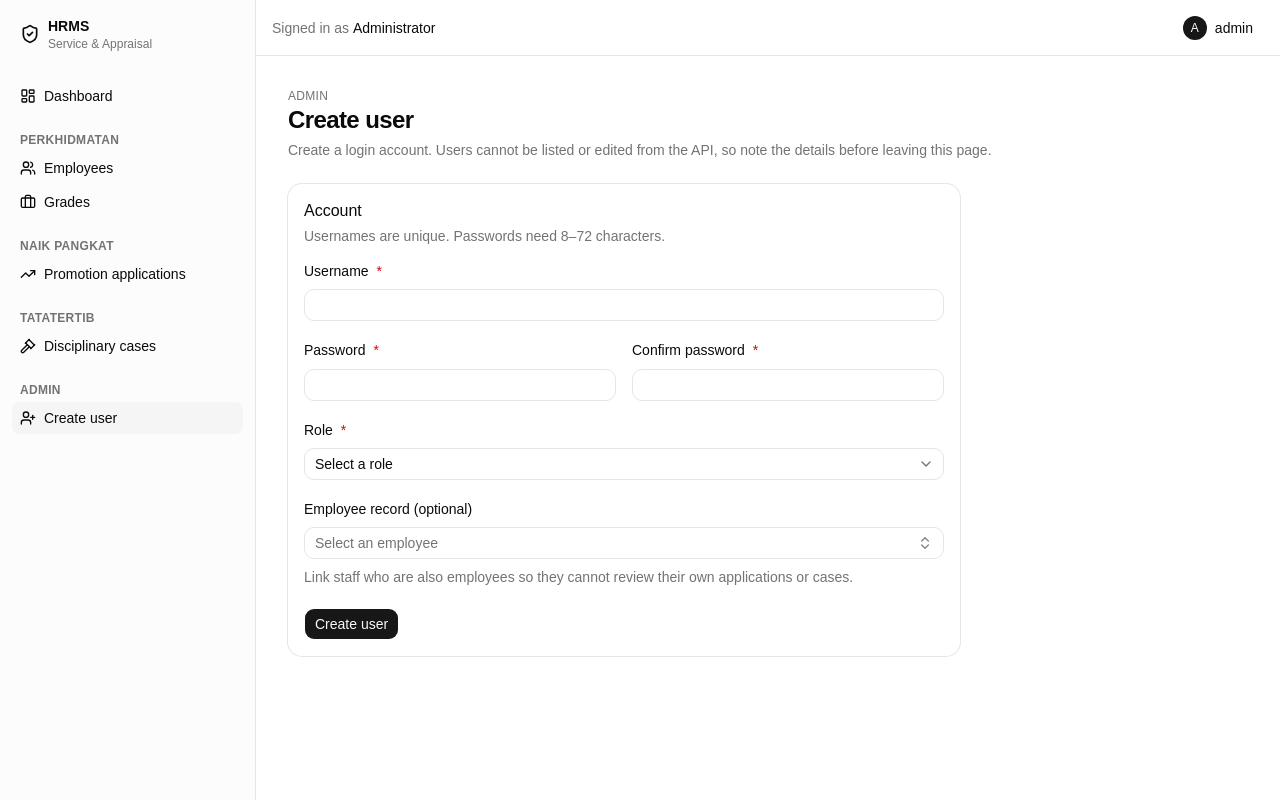
create user › creates a user without client-only fields and shows the result
Type "new.approver" into the field labelled "Username *". click: (624, 305)
box: [304, 289, 944, 321]
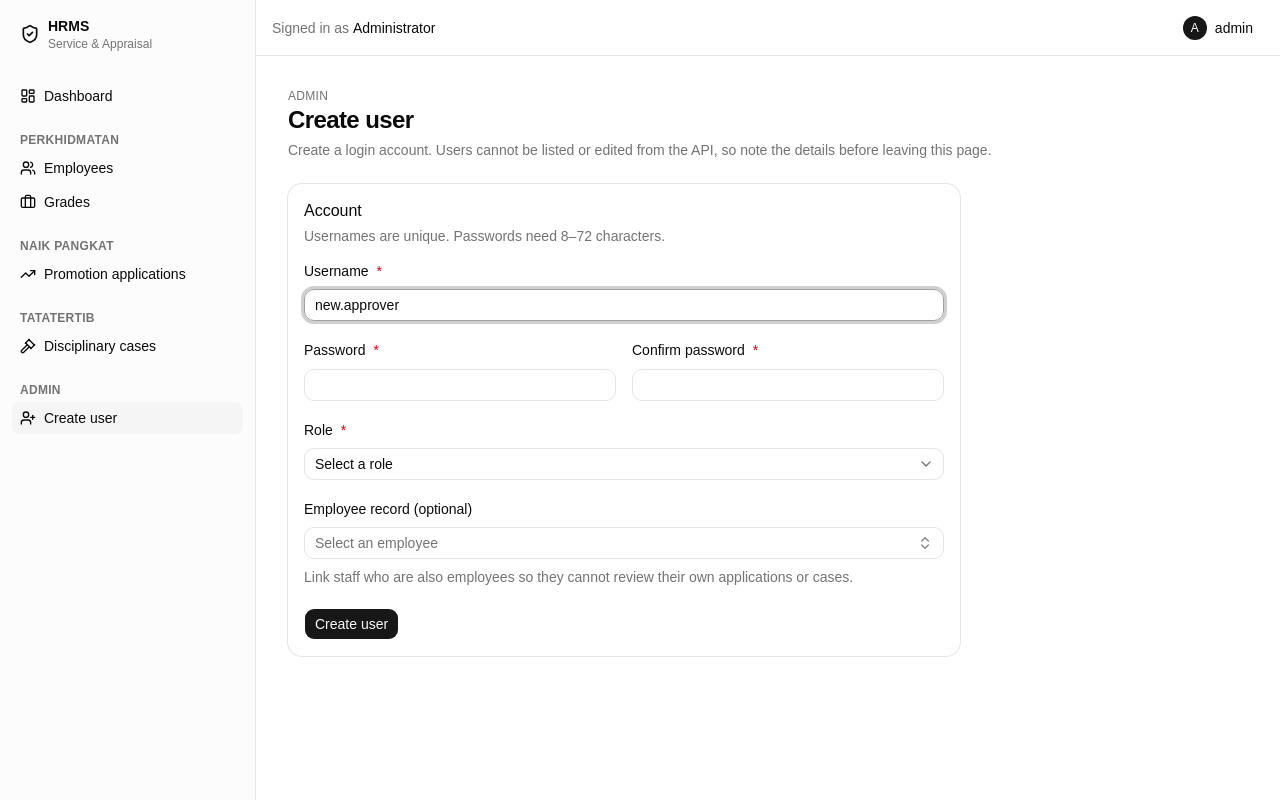
Type "Sup3r-secret" into the password field labelled "Password *". click: (460, 384)
box: [304, 368, 616, 400]
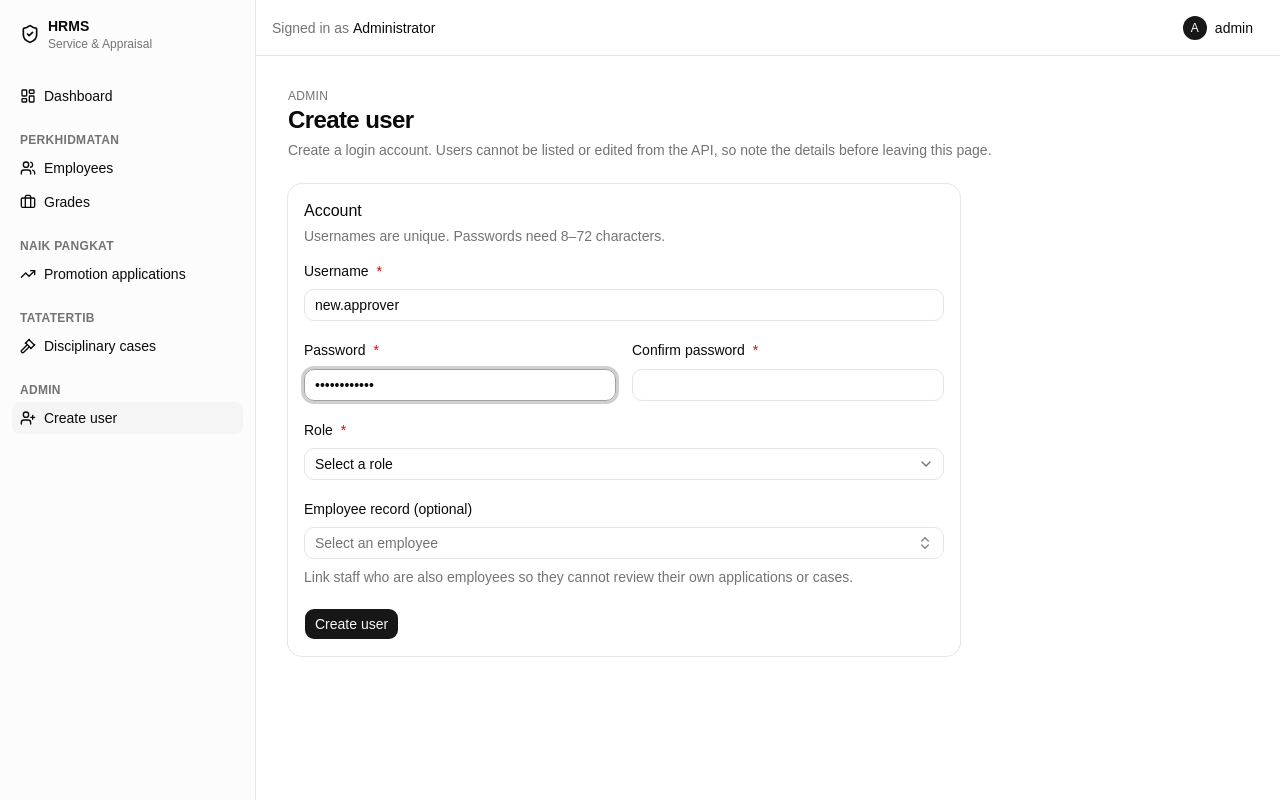
Type "Sup3r-secret" into the password field labelled "Confirm password *". click: (788, 384)
box: [632, 368, 944, 400]
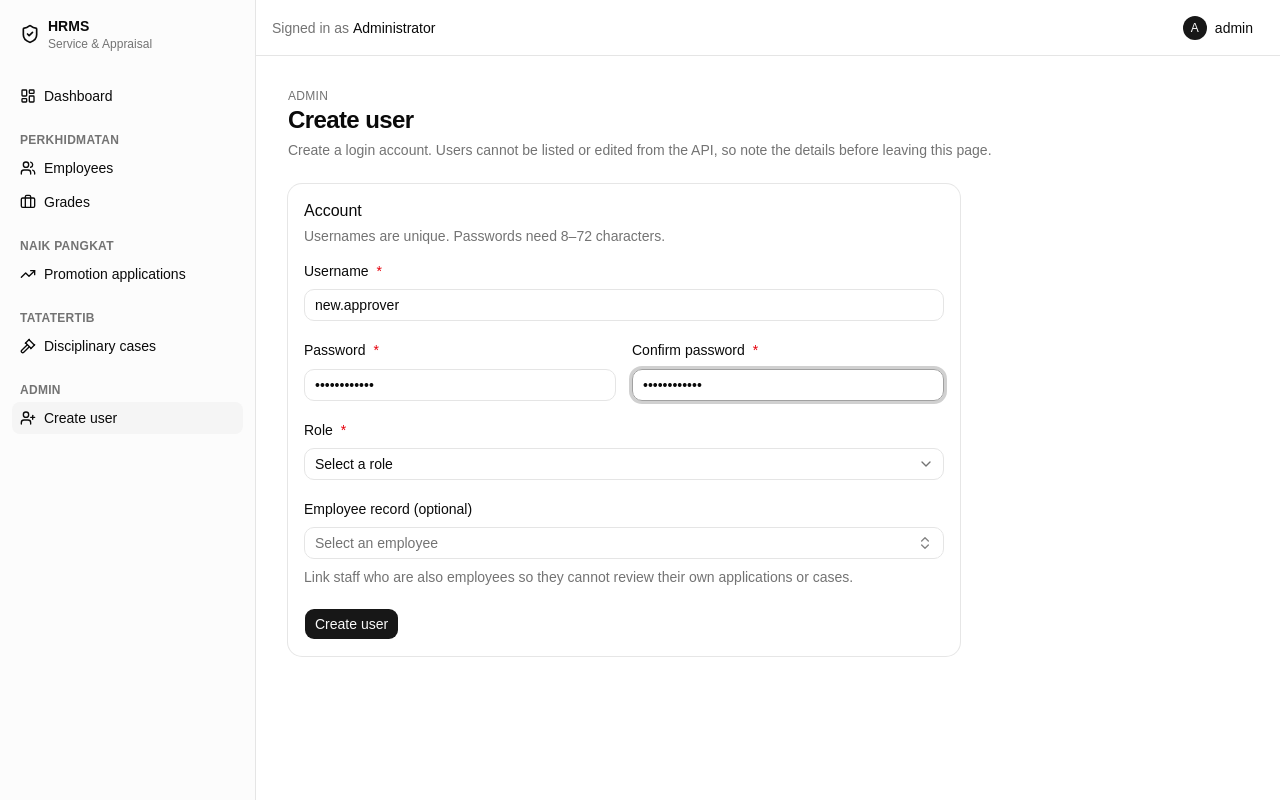
Select "Approver" in the dropdown labelled "Role *". click: (624, 464)
box: [304, 448, 944, 480]
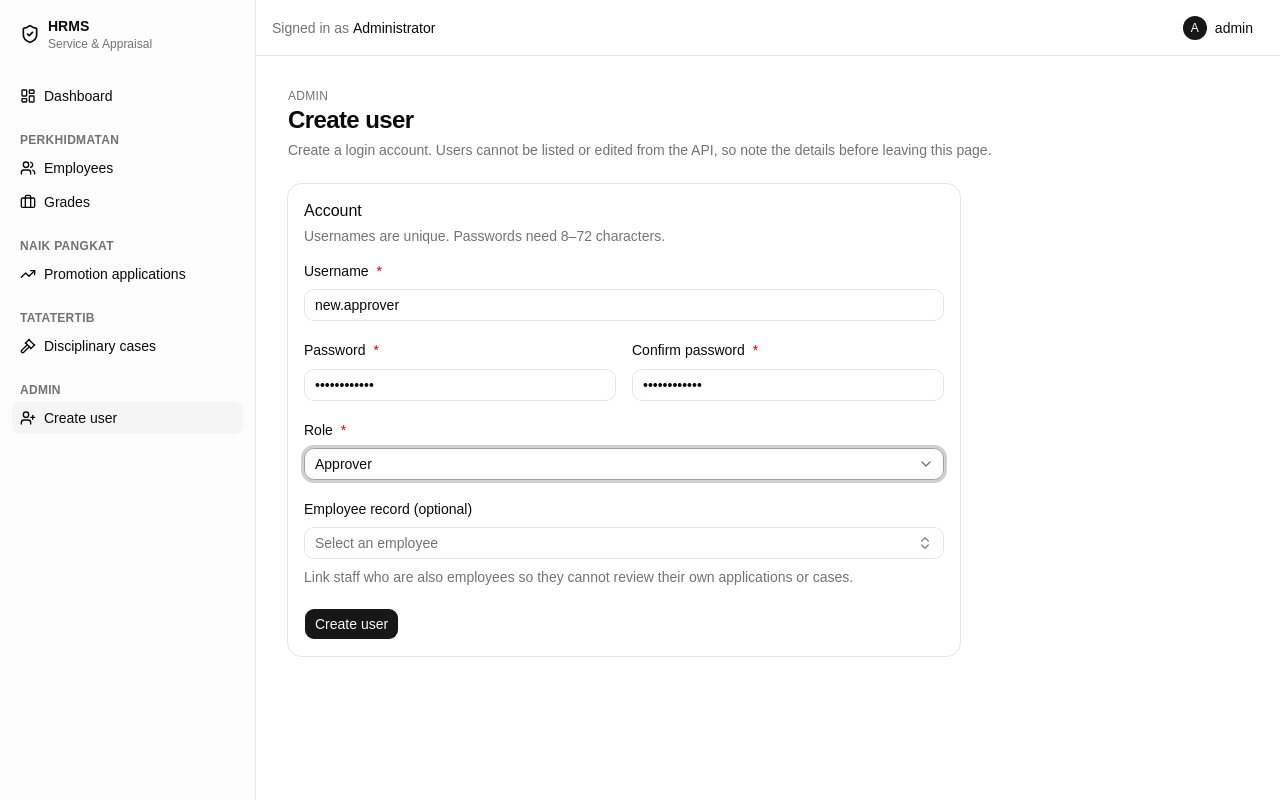
Click the button "Create user". click: click(352, 624)
box: [304, 608, 399, 640]
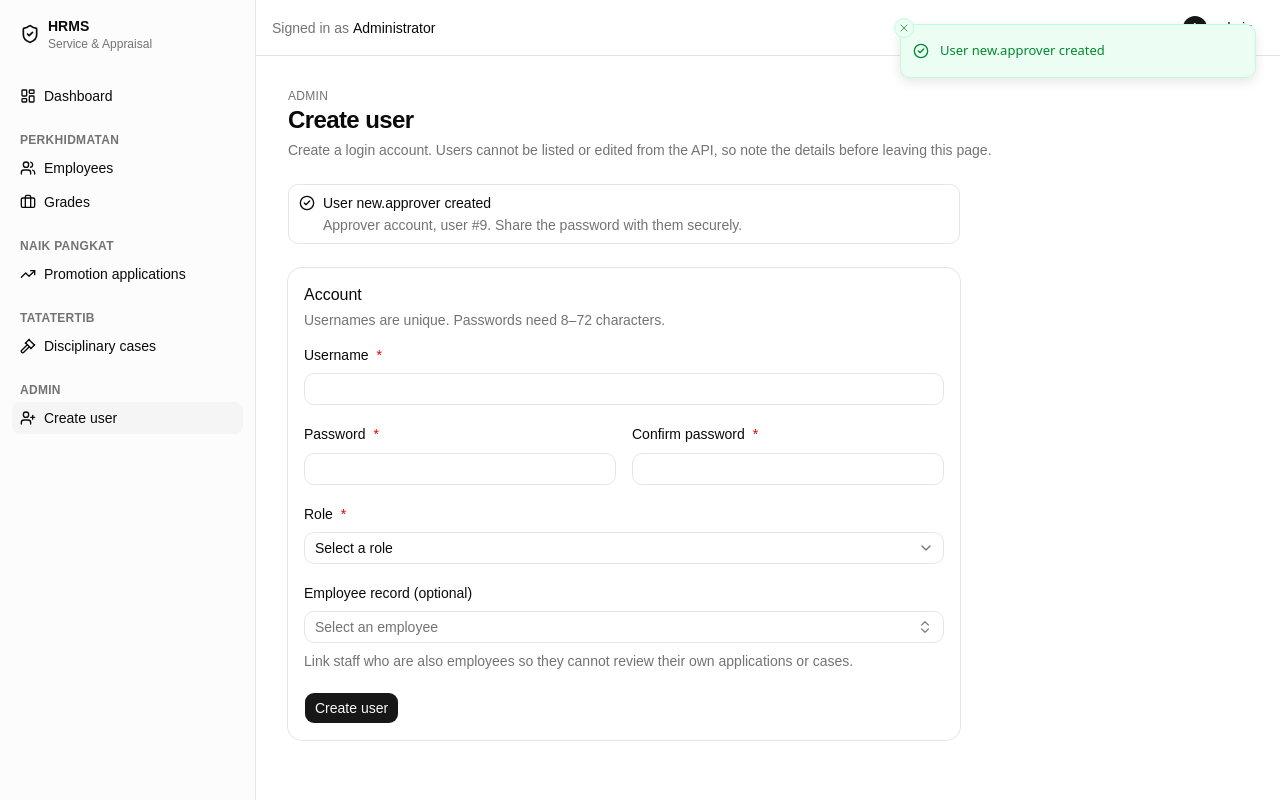
Now the text "Approver account, user #9" is shown, box [323, 217, 742, 233]
Now the field labelled "Username *" is empty, box [304, 373, 944, 405]
